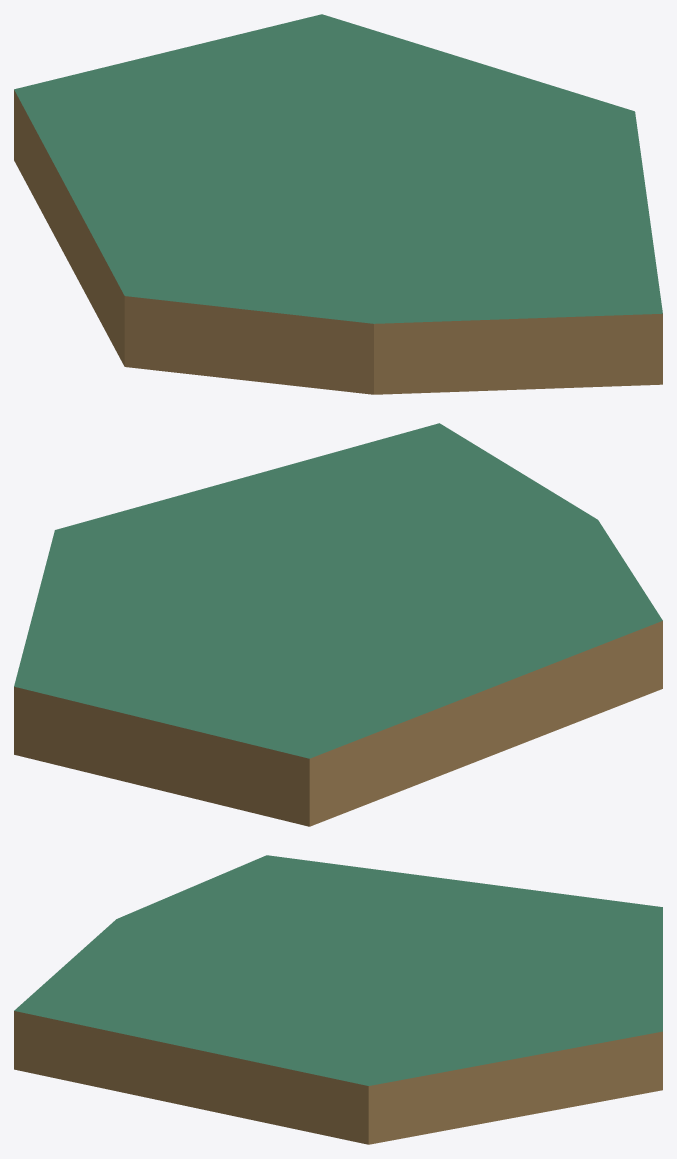
File: Rock_Small_Mesa_Eroded_Moss_Grass_Shard_03.FBX
The picture shows the model from 3 angles, top to bottom: view 1: azimuth 30°, elevation 25°; view 2: azimuth 150°, elevation 25°; view 3: azimuth 270°, elevation 25°; orthographic projection. The views are drawn at different scales.
Visible parts, largest first — view 1: Rock_Small_Mesa_Eroded_Moss_Grass_Shard_03; view 2: Rock_Small_Mesa_Eroded_Moss_Grass_Shard_03; view 3: Rock_Small_Mesa_Eroded_Moss_Grass_Shard_03.
Part boxes in pixels (left/top/right/bottom): Rock_Small_Mesa_Eroded_Moss_Grass_Shard_03: left=14, top=14, right=662, bottom=394; Rock_Small_Mesa_Eroded_Moss_Grass_Shard_03: left=14, top=423, right=662, bottom=826; Rock_Small_Mesa_Eroded_Moss_Grass_Shard_03: left=14, top=855, right=662, bottom=1144.
Bounding box in the file's own units: 1819 × 215 × 2160.
